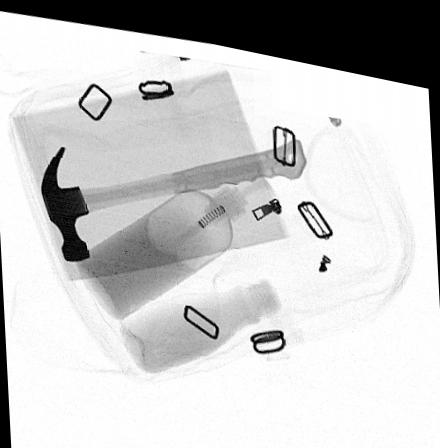Hammer: (39, 126, 308, 258)
